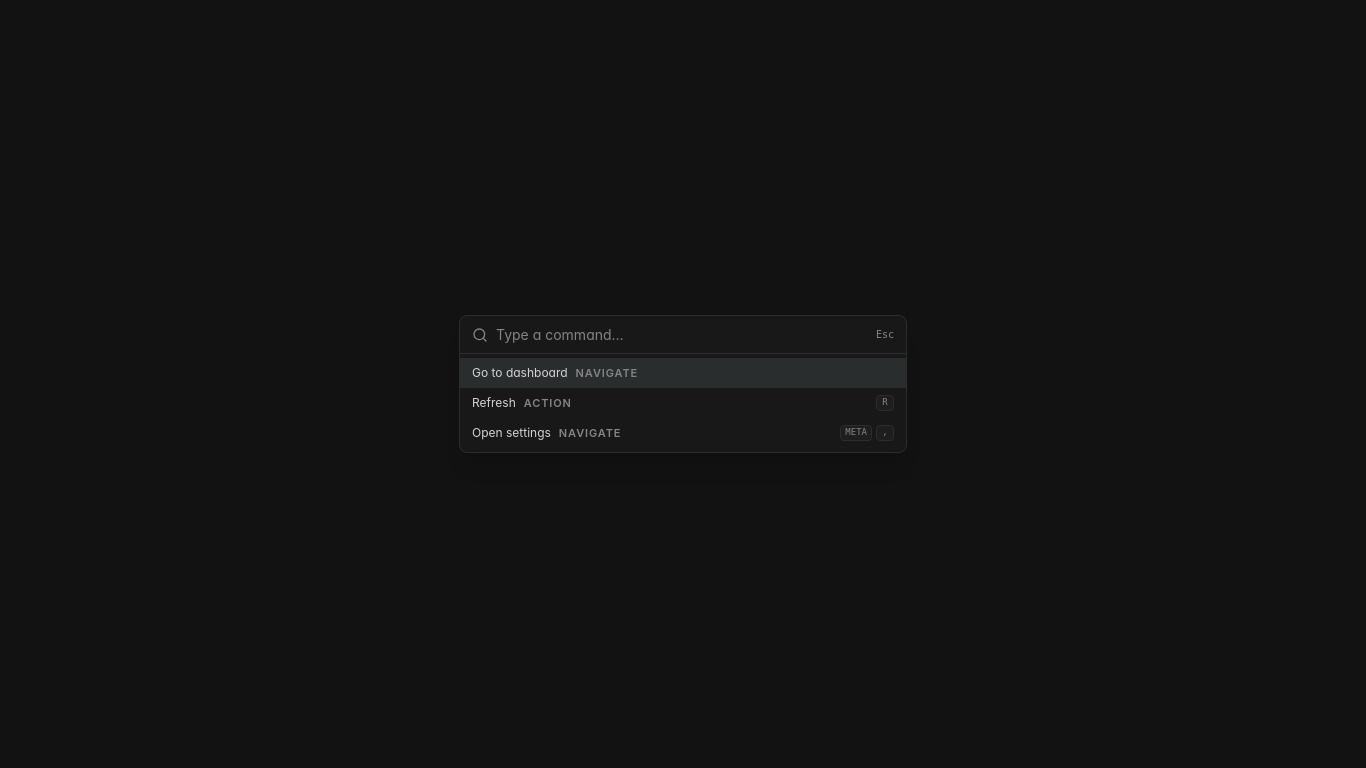
it: CommandPalette (v0.77b — full coverage) › shows empty state when no match
Type "zzzzzzz" into the field with test id "palette-input" at (682, 334), box [496, 324, 868, 345]
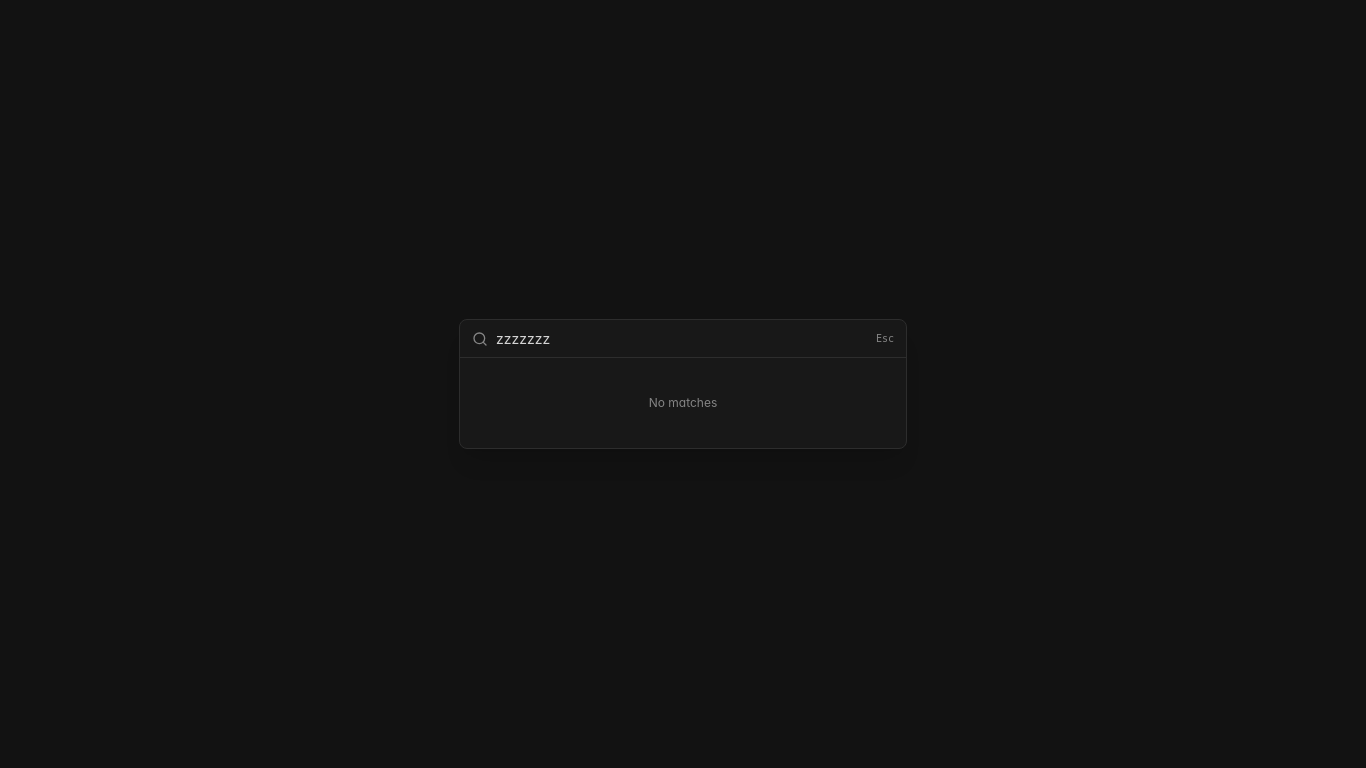
expect the button with test id "palette-item-cmd1" is gone: met
